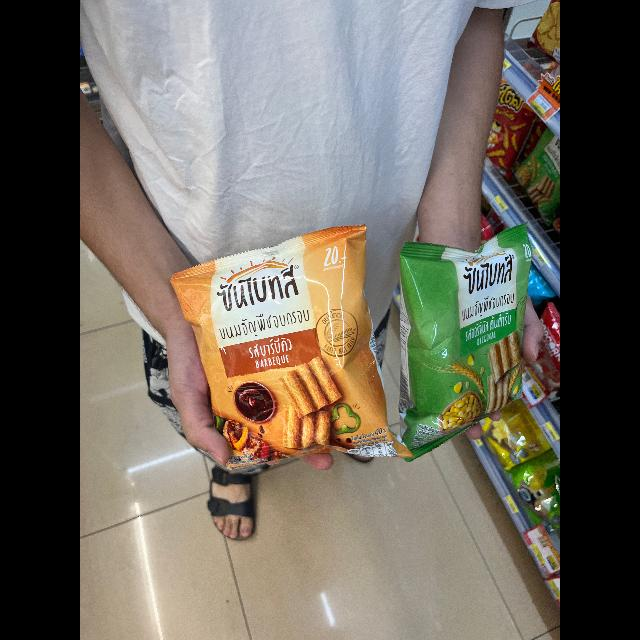snack_bag: (154, 238, 402, 466), (382, 222, 544, 456)
